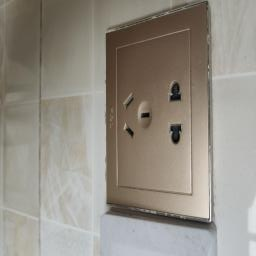outlet: (96, 0, 218, 219)
